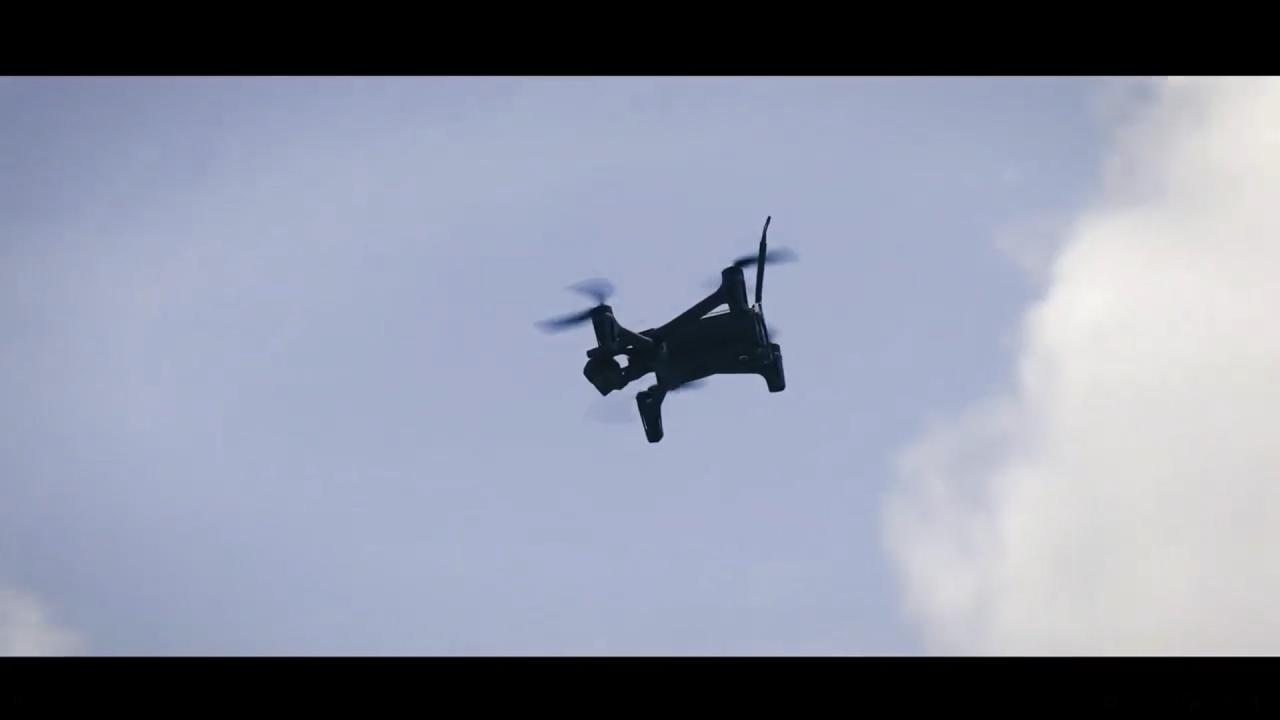Drone: (520, 198, 823, 459)
